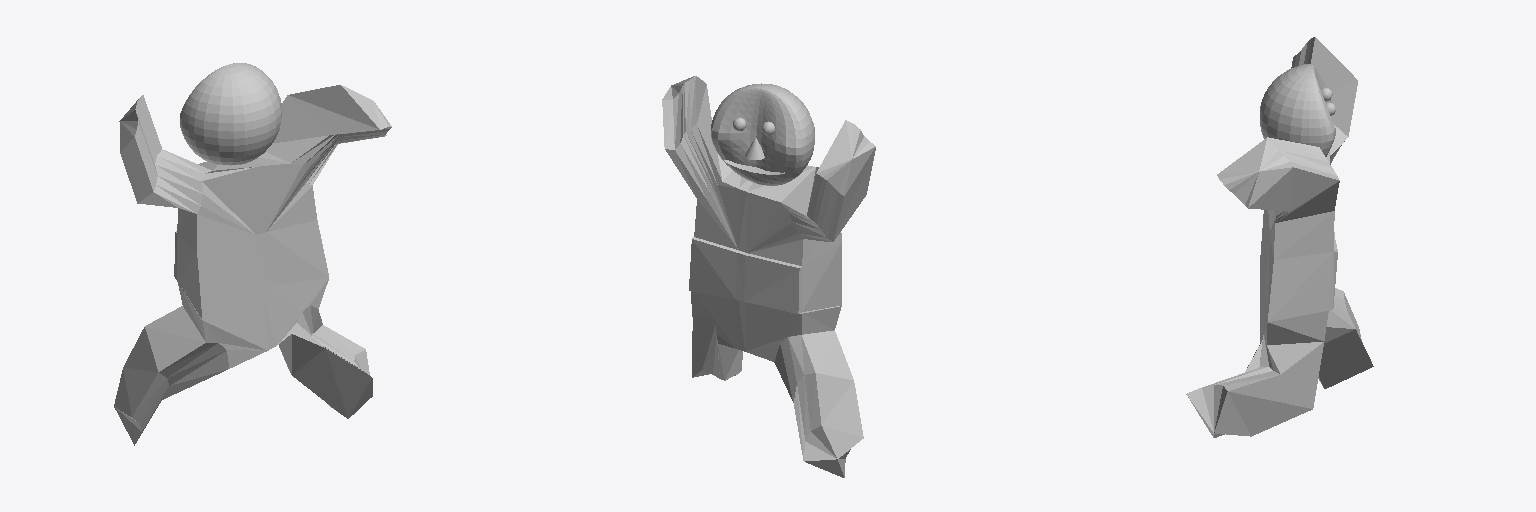
The model's file is manjump_000026.obj.
3 views of the same model, side by side, from view 1: azimuth 30°, elevation 25°; view 2: azimuth 150°, elevation 25°; view 3: azimuth 270°, elevation 25° (orthographic).
Visible parts, largest first — view 1: Cube; view 2: Cube; view 3: Cube.
Part boxes in pixels (x1,y1,x2,y2): Cube: (114,63,391,445); Cube: (662,76,875,477); Cube: (1186,37,1373,437).
Size of the model in its own units: 82.06 by 124 by 58.18.